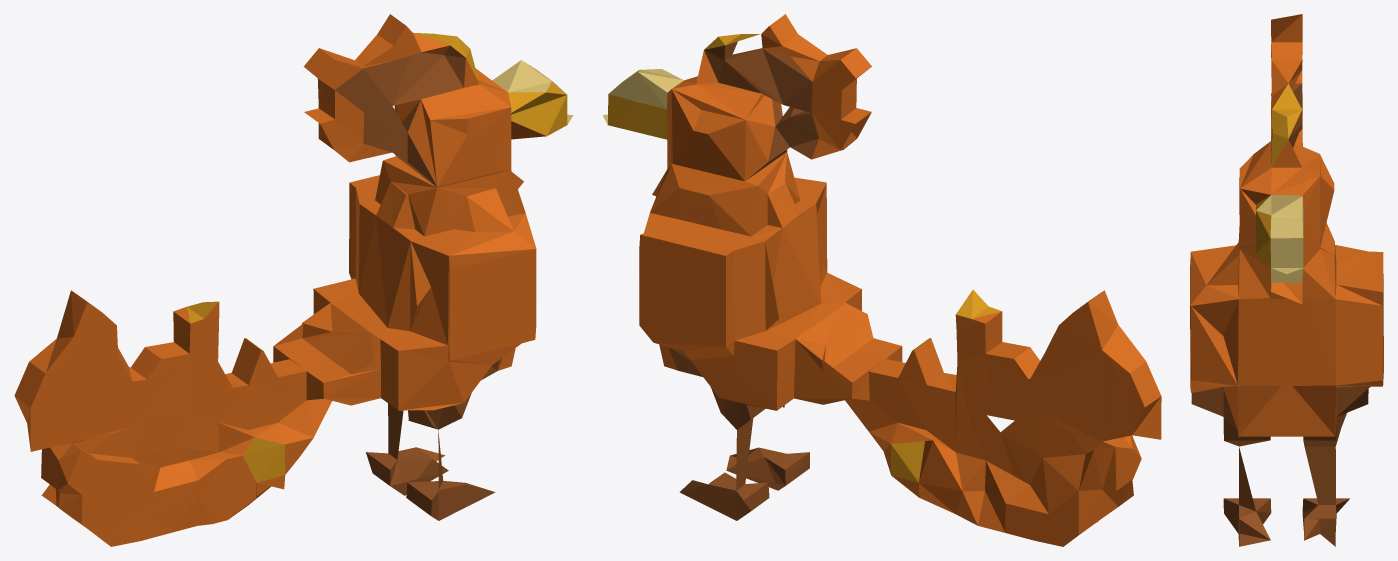
The model's file is fire-bird.glb.
3 renders of one model, left to right at view 1: azimuth 30°, elevation 25°; view 2: azimuth 150°, elevation 25°; view 3: azimuth 270°, elevation 25°, orthographic. The views are drawn at different scales.
Bounding box in the file's own units: 0.9908 × 0.8585 × 0.314.
